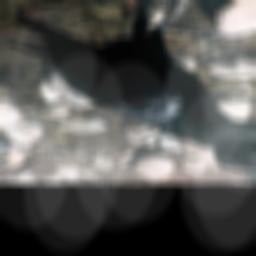Crow: (8, 0, 256, 173)
